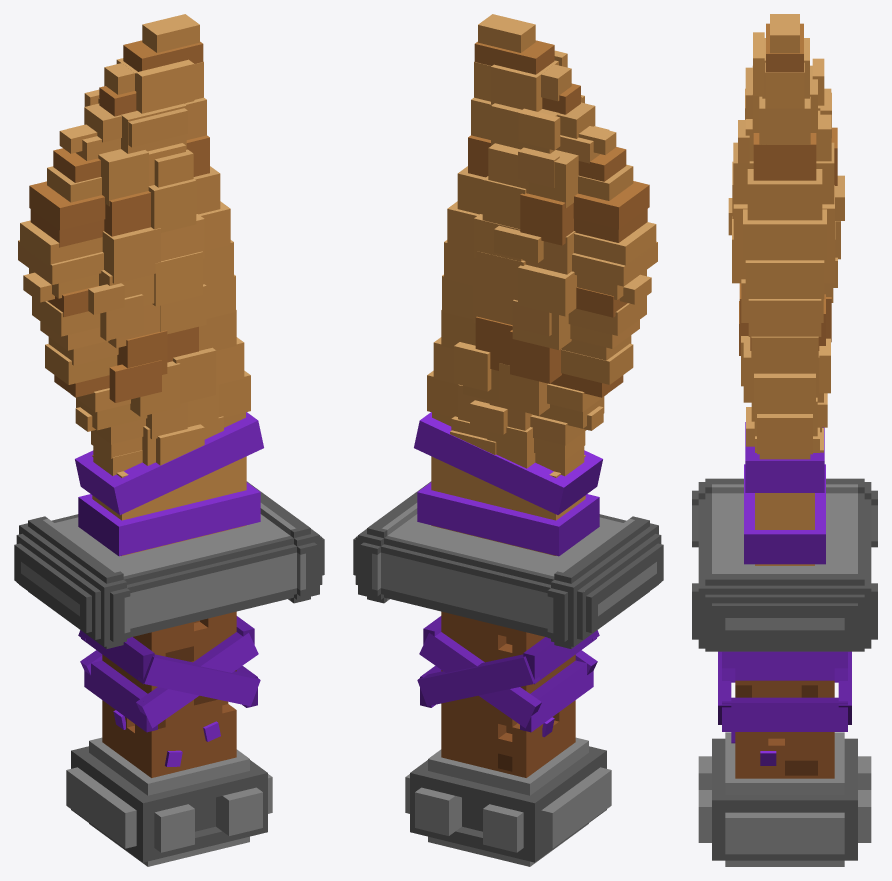
Rendered from splinter_daggers.glb.
The picture shows the model from 3 angles, left to right: view 1: azimuth 30°, elevation 25°; view 2: azimuth 150°, elevation 25°; view 3: azimuth 270°, elevation 25°; orthographic projection.
Visible parts, largest first — view 1: blade, guard, pommel, blade_grain, grip_wrap, grip, collar_strap_2, collar_strap_1, grip_stain; view 2: blade, guard, pommel, blade_grain, grip_wrap, grip, collar_strap_1, collar_strap_2; view 3: blade, guard, pommel, grip_wrap, grip, blade_grain, collar_strap_1, collar_strap_2.
Boxes of the visible parts, x1,y1,x2,y2 form: blade: [18, 14, 250, 555]; guard: [14, 481, 324, 648]; pommel: [66, 737, 272, 866]; blade_grain: [29, 40, 209, 402]; grip_wrap: [78, 616, 260, 732]; grip: [102, 611, 236, 777]; collar_strap_2: [75, 412, 263, 514]; collar_strap_1: [78, 482, 260, 556]; grip_stain: [113, 710, 220, 766]; blade: [427, 14, 657, 555]; guard: [353, 481, 663, 648]; pommel: [405, 737, 611, 866]; blade_grain: [468, 40, 649, 397]; grip_wrap: [417, 616, 599, 732]; grip: [441, 611, 575, 777]; collar_strap_1: [417, 482, 599, 556]; collar_strap_2: [414, 412, 602, 514]; blade: [728, 14, 844, 565]; guard: [692, 478, 877, 651]; pommel: [698, 732, 871, 866]; grip_wrap: [718, 651, 851, 731]; grip: [735, 680, 834, 778]; blade_grain: [739, 23, 837, 355]; collar_strap_1: [744, 464, 825, 564]; collar_strap_2: [745, 422, 824, 492].
Size of the model in its own units: 0.18 by 0.5444 by 0.112.
